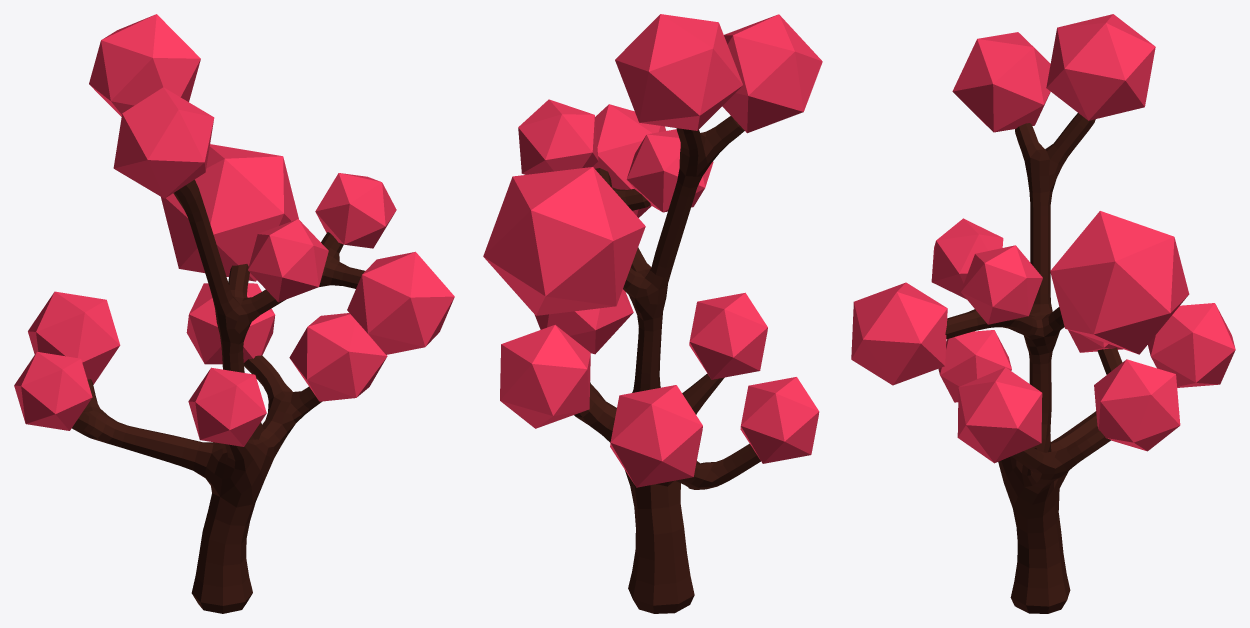
The model's file is Tree.fbx.
The picture shows the model from 3 angles, left to right: view 1: azimuth 30°, elevation 25°; view 2: azimuth 150°, elevation 25°; view 3: azimuth 270°, elevation 25°; orthographic projection. The views are drawn at different scales.
Visible parts, largest first — view 1: Icosphere.002, Plane.002; view 2: Icosphere.002, Plane.002; view 3: Icosphere.002, Plane.002.
Part boxes in pixels (bbox=[...]): Icosphere.002: bbox=[14, 14, 454, 446]; Plane.002: bbox=[72, 179, 364, 613]; Icosphere.002: bbox=[483, 14, 822, 487]; Plane.002: bbox=[574, 116, 760, 613]; Icosphere.002: bbox=[851, 14, 1235, 463]; Plane.002: bbox=[945, 113, 1122, 613].
Size of the model in its own units: 842 by 1433 by 876.
